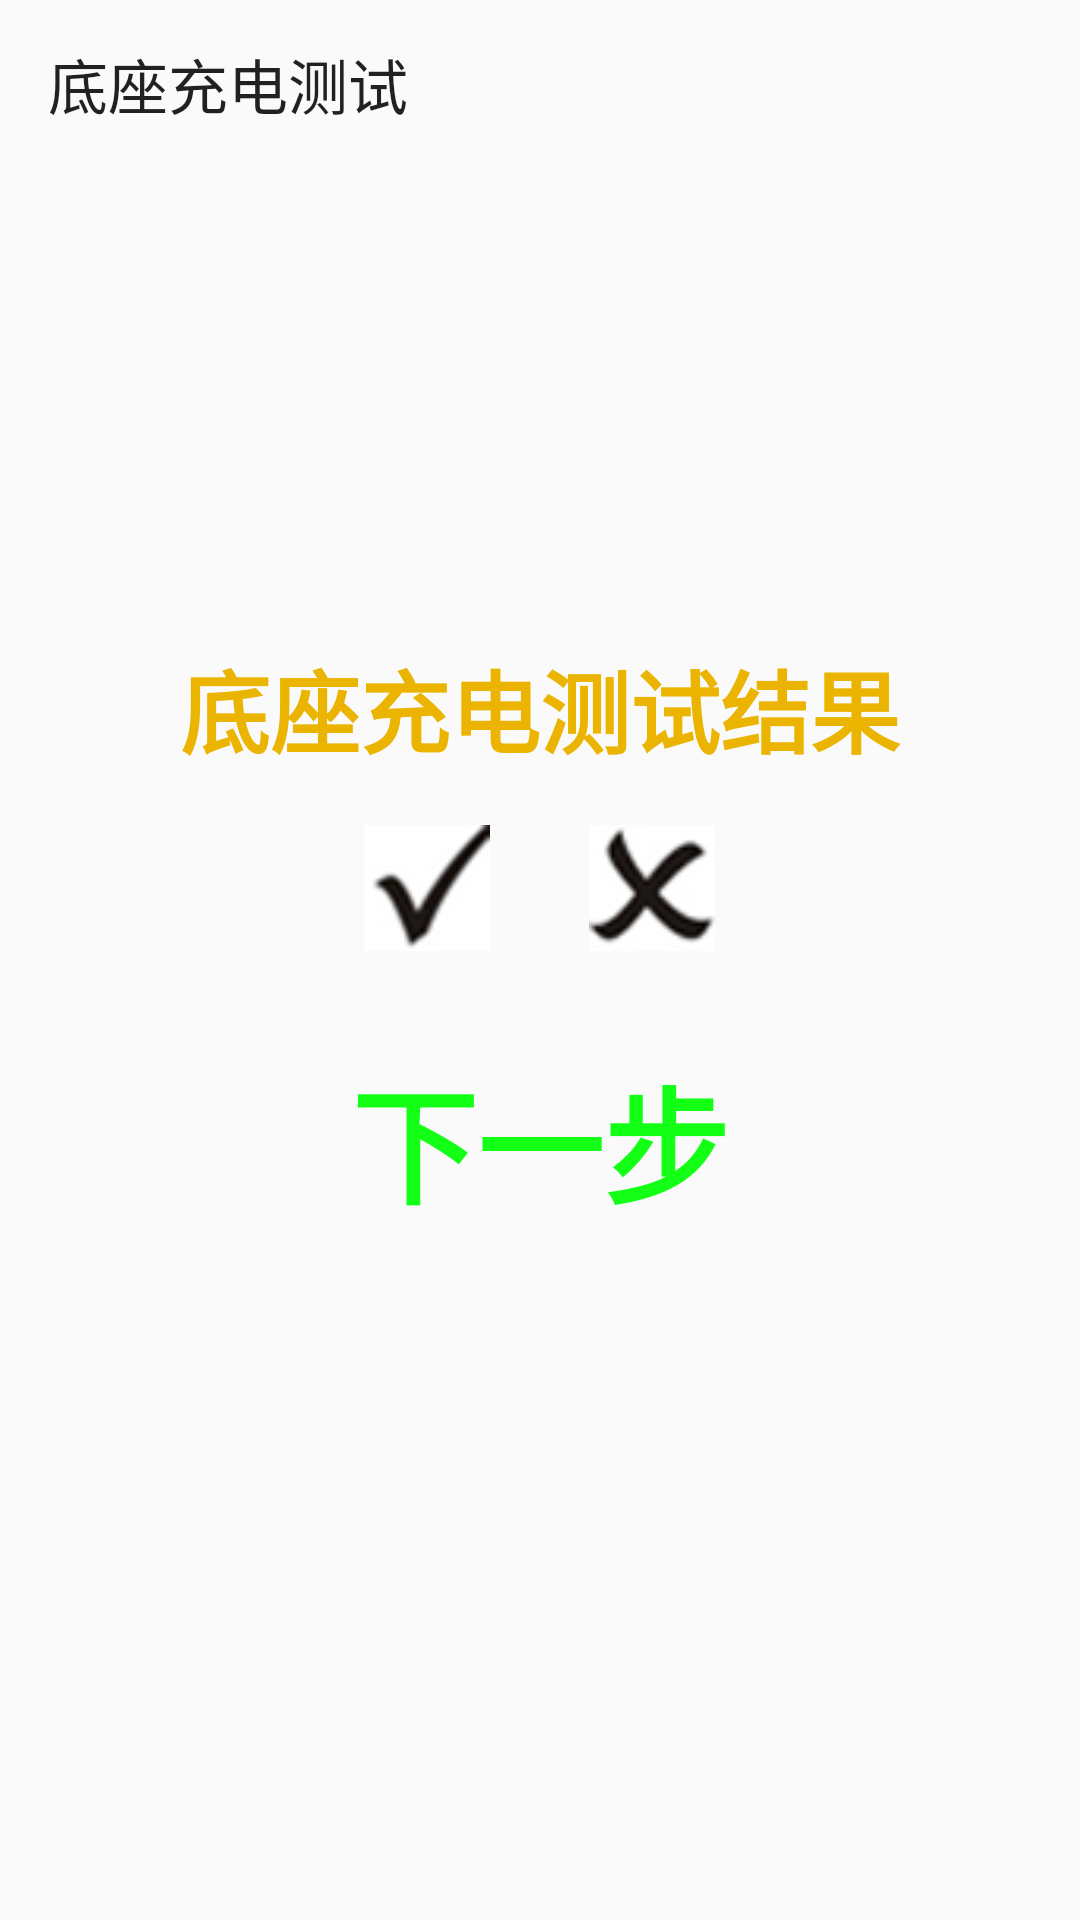

Named icons in this screenshot (1080×1920) and their bounding boxes, [x1, y1, x2, y2]:
check cross: [589, 829, 713, 943]
check ok: [374, 825, 490, 946]
